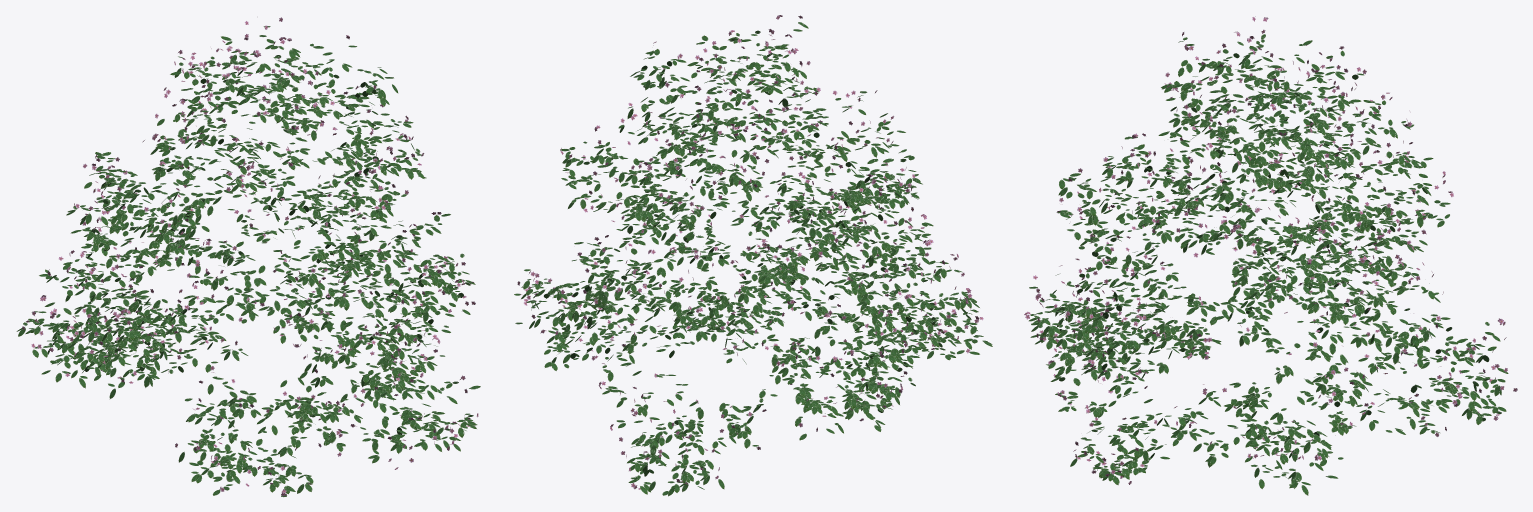
Rendered from MESH_TabebuiaRosea_A_LOD2.fbx.
3 renders of one model, left to right at view 1: azimuth 30°, elevation 25°; view 2: azimuth 150°, elevation 25°; view 3: azimuth 270°, elevation 25°, orthographic. The views are drawn at different scales.
Visible parts, largest first — view 1: MI_LOD2_001, MI_LOD2_002; view 2: MI_LOD2_001, MI_LOD2_002; view 3: MI_LOD2_001, MI_LOD2_002.
Boxes of the visible parts, box(x1,y1,x2,y2) form: MI_LOD2_001: box(16, 26, 480, 497); MI_LOD2_002: box(22, 17, 478, 496); MI_LOD2_001: box(514, 22, 992, 496); MI_LOD2_002: box(517, 15, 983, 489); MI_LOD2_001: box(1028, 34, 1508, 495); MI_LOD2_002: box(1024, 16, 1517, 484).
Size of what is drawn, in the model's own units: 822 by 751 by 806.
